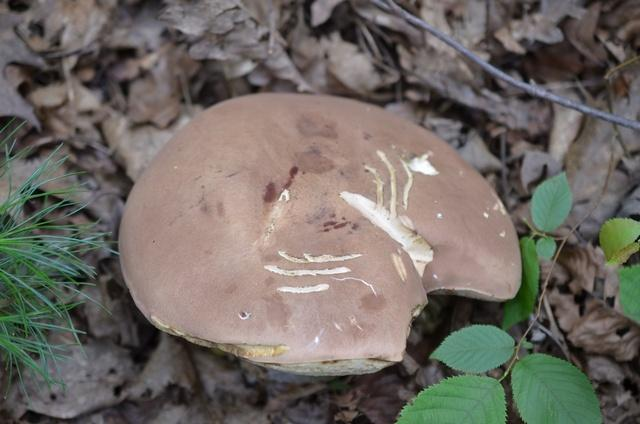Non-edible Mushroom: (116, 90, 523, 379)
